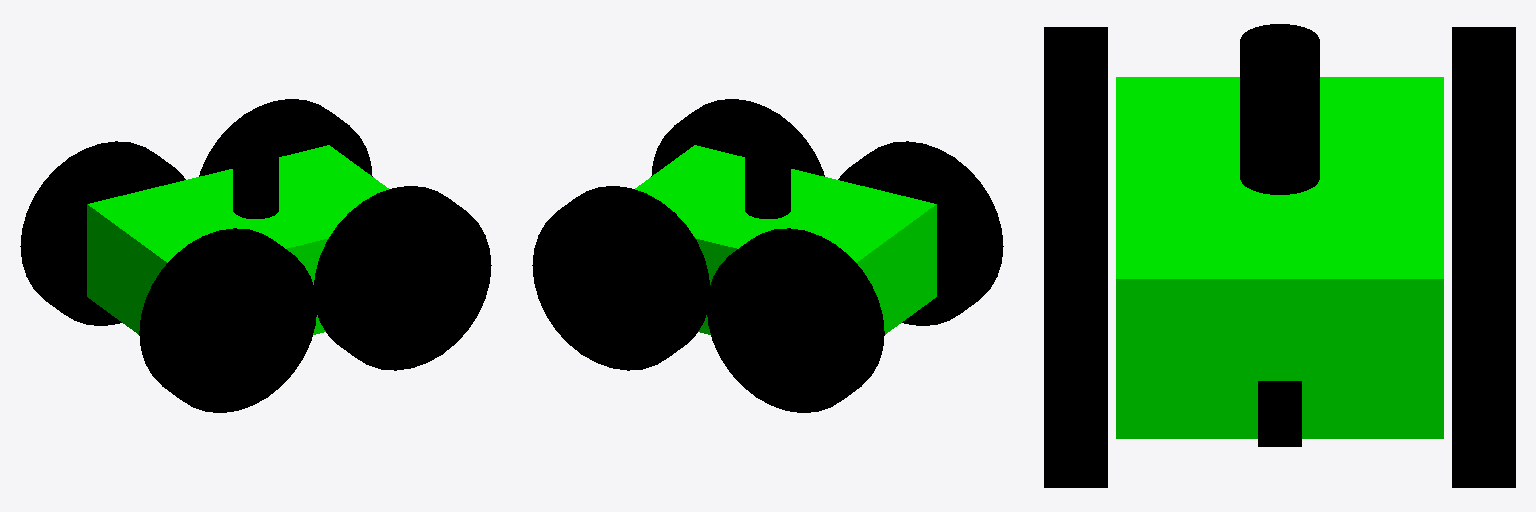
URDF robot description (smb):
<?xml version="1.0" ?>
<!-- =================================================================================== -->
<!-- |    This document was autogenerated by xacro from [local-path]/catkin_ws/src/smb_common/smb_description/urdf/smb_standalone.urdf.xacro | -->
<!-- |    EDITING THIS FILE BY HAND IS NOT RECOMMENDED                                 | -->
<!-- =================================================================================== -->
<robot name="smb"
  xmlns:xacro="http://www.ros.org/wiki/xacro">
  <!-- Materials -->
  <material name="black">
    <color rgba="0 0 0 255"/>
  </material>
  <material name="blue">
    <color rgba="0 0 200 255"/>
  </material>
  <material name="green">
    <color rgba="0 200 0 255"/>
  </material>
  <material name="grey">
    <color rgba="50 50 50 255"/>
  </material>
  <material name="orange">
    <color rgba="255 108 10 255"/>
  </material>
  <material name="brown">
    <color rgba="222 207 195 255"/>
  </material>
  <material name="red">
    <color rgba="200 0 0 255"/>
  </material>
  <material name="white">
    <color rgba="255 255 255 255"/>
  </material>
  <!-- continuous for gazebo -->
  <!-- Global Properties -->
  <!--xacro:property name="robot_name" value="smb"/-->
  <link name="base">
    <collision>
      <origin rpy="0 0 0" xyz="0 0 0"/>
      <geometry>
        <box size="0.6 0.41 0.22"/>
      </geometry>
    </collision>
    <visual>
      <origin rpy="0 0 0" xyz="0 0 0"/>
      <geometry>
        <box size="0.6 0.41 0.22"/>
      </geometry>
      <material name="green"/>
    </visual>
  </link>

  <!-- Fixed joint to add dummy inertia link -->
  <joint name="base_to_base_inertia" type="fixed">
    <parent link="base"/>
    <child link="base_inertia"/>
    <origin rpy="0 0 0" xyz="0 0 0"/>
  </joint>
  <!-- Dummy inertia link, because KDL cannot have inertia on the base link -->
  <link name="base_inertia">
    <inertial>
      <origin rpy="0 0 0" xyz="0.0 -0.02 0.047"/>
      <mass value="74.62"/>
      <inertia ixx="0.721666666667" ixy="0" ixz="0" iyy="1.36133333333" iyz="0" izz="1.36133333333"/>
    </inertial>
  </link>

  <joint name="LF_WHEEL" type="continuous">
    <parent link="base"/>
    <child link="LF_WHEEL"/>
    <origin rpy="1.57079632679 0 0" xyz="0.2159 0.255 0.0"/>
    <axis rpy="0 0 0" xyz="0 0 1"/>
    <dynamics damping="0.0" friction="0.0"/>
    <limit effort="65" velocity="25"/>
    <joint_properties damping="0.2" friction="0.2"/>
  </joint>
  <link name="LF_WHEEL">
    <collision>
      <origin rpy="0 0 0" xyz="0 0 0"/>
      <geometry>
        <cylinder length="0.08" radius="0.1975"/>
      </geometry>
    </collision>
    <visual>
      <origin rpy="0 0 0" xyz="0 0 0"/>
      <geometry>
        <cylinder length="0.08" radius="0.1975"/>
      </geometry>
      <material name="black"/>
    </visual>
    <inertial>
      <origin rpy="0 0 0" xyz="0 0 0"/>
      <mass value="5.73"/>
      <inertia ixx="0.059" ixy="0" ixz="0" iyy="0.059" iyz="0" izz="0.112"/>
    </inertial>
  </link>

  <joint name="RF_WHEEL" type="continuous">
    <parent link="base"/>
    <child link="RF_WHEEL"/>
    <origin rpy="1.57079632679 0 0" xyz="0.2159 -0.255 0.0"/>
    <axis rpy="0 0 0" xyz="0 0 1"/>
    <dynamics damping="0.0" friction="0.0"/>
    <limit effort="65" velocity="25"/>
    <joint_properties damping="0.2" friction="0.2"/>
  </joint>
  <link name="RF_WHEEL">
    <collision>
      <origin rpy="0 0 0" xyz="0 0 0"/>
      <geometry>
        <cylinder length="0.08" radius="0.1975"/>
      </geometry>
    </collision>
    <visual>
      <origin rpy="0 0 0" xyz="0 0 0"/>
      <geometry>
        <cylinder length="0.08" radius="0.1975"/>
      </geometry>
      <material name="black"/>
    </visual>
    <inertial>
      <origin rpy="0 0 0" xyz="0 0 0"/>
      <mass value="5.73"/>
      <inertia ixx="0.059" ixy="0" ixz="0" iyy="0.059" iyz="0" izz="0.112"/>
    </inertial>
  </link>

  <joint name="LH_WHEEL" type="continuous">
    <parent link="base"/>
    <child link="LH_WHEEL"/>
    <origin rpy="1.57079632679 0 0" xyz="-0.2159 0.255 0.0"/>
    <axis rpy="0 0 0" xyz="0 0 1"/>
    <dynamics damping="0.0" friction="0.0"/>
    <limit effort="65" velocity="25"/>
    <joint_properties damping="0.2" friction="0.2"/>
  </joint>
  <link name="LH_WHEEL">
    <collision>
      <origin rpy="0 0 0" xyz="0 0 0"/>
      <geometry>
        <cylinder length="0.08" radius="0.1975"/>
      </geometry>
    </collision>
    <visual>
      <origin rpy="0 0 0" xyz="0 0 0"/>
      <geometry>
        <cylinder length="0.08" radius="0.1975"/>
      </geometry>
      <material name="black"/>
    </visual>
    <inertial>
      <origin rpy="0 0 0" xyz="0 0 0"/>
      <mass value="5.73"/>
      <inertia ixx="0.059" ixy="0" ixz="0" iyy="0.059" iyz="0" izz="0.112"/>
    </inertial>
  </link>

  <joint name="RH_WHEEL" type="continuous">
    <parent link="base"/>
    <child link="RH_WHEEL"/>
    <origin rpy="1.57079632679 0 0" xyz="-0.2159 -0.255 0.0"/>
    <axis rpy="0 0 0" xyz="0 0 1"/>
    <dynamics damping="0.0" friction="0.0"/>
    <limit effort="65" velocity="25"/>
    <joint_properties damping="0.2" friction="0.2"/>
  </joint>
  <link name="RH_WHEEL">
    <collision>
      <origin rpy="0 0 0" xyz="0 0 0"/>
      <geometry>
        <cylinder length="0.08" radius="0.1975"/>
      </geometry>
    </collision>
    <visual>
      <origin rpy="0 0 0" xyz="0 0 0"/>
      <geometry>
        <cylinder length="0.08" radius="0.1975"/>
      </geometry>
      <material name="black"/>
    </visual>
    <inertial>
      <origin rpy="0 0 0" xyz="0 0 0"/>
      <mass value="5.73"/>
      <inertia ixx="0.059" ixy="0" ixz="0" iyy="0.059" iyz="0" izz="0.112"/>
    </inertial>
  </link>

  <link name="imu">
    <visual>
      <origin rpy="0 0 0" xyz="0 0 0"/>
      <geometry>
        <box size="0.08 0.055 0.024"/>
      </geometry>
      <material name="black"/>
    </visual>
  </link>
  <joint name="imu" type="fixed">
    <parent link="base"/>
    <child link="imu"/>
    <origin rpy="3.14159 1.57079632679 0" xyz="0.312 0 -0.07"/>
  </joint>

  <link name="lidar">
    <visual>
      <origin rpy="0 0 0" xyz="0 0 0"/>
      <geometry>
        <cylinder radius="0.05" length="0.2"/>
      </geometry>
      <material name="black"/>
    </visual>
  </link>
  <joint name="lidar" type="fixed">
    <parent link="base"/>
    <child link="lidar"/>
    <origin rpy="0 0 0" xyz="0 0 0.2"/>
  </joint>

</robot>

--- What the picture shows (computed from the rendered views, not written in the file) ---
3 views of the same robot in one strip: view 1: azimuth 30°, elevation 25°; view 2: azimuth 150°, elevation 25°; view 3: azimuth 270°, elevation 25° (orthographic).
Robot: smb — 8 links, 7 joints (4 continuous, 3 fixed); root link base; default pose: every joint at zero.
Visible links, largest first — view 1: RH_WHEEL, RF_WHEEL, base, LH_WHEEL, LF_WHEEL, lidar; view 2: LH_WHEEL, LF_WHEEL, base, RH_WHEEL, RF_WHEEL, lidar; view 3: base, LF_WHEEL, RF_WHEEL, lidar, LH_WHEEL, RH_WHEEL, imu.
Link boxes in pixels (<box>): RH_WHEEL: <box>139,228,316,412</box>; RF_WHEEL: <box>314,186,491,370</box>; base: <box>87,145,388,334</box>; LH_WHEEL: <box>20,141,185,325</box>; LF_WHEEL: <box>199,99,372,176</box>; lidar: <box>233,120,278,218</box>; LH_WHEEL: <box>707,228,884,412</box>; LF_WHEEL: <box>532,186,709,370</box>; base: <box>635,145,936,334</box>; RH_WHEEL: <box>838,141,1003,325</box>; RF_WHEEL: <box>651,99,824,176</box>; lidar: <box>745,120,790,218</box>; base: <box>1116,77,1443,438</box>; LF_WHEEL: <box>1452,173,1515,487</box>; RF_WHEEL: <box>1044,173,1107,487</box>; lidar: <box>1240,24,1319,194</box>; LH_WHEEL: <box>1452,27,1515,172</box>; RH_WHEEL: <box>1044,27,1107,172</box>; imu: <box>1258,381,1301,446</box>.
Size in the robot's own frame: 0.8268 by 0.59 by 0.4975 metres.
Geometry: primitives only (box / cylinder / sphere), no mesh files.